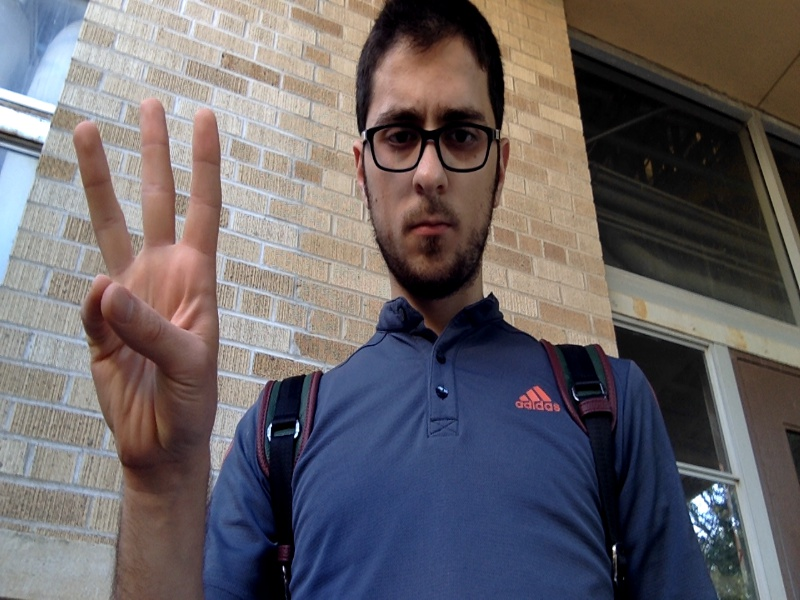3-hand: (71, 98, 219, 475)
